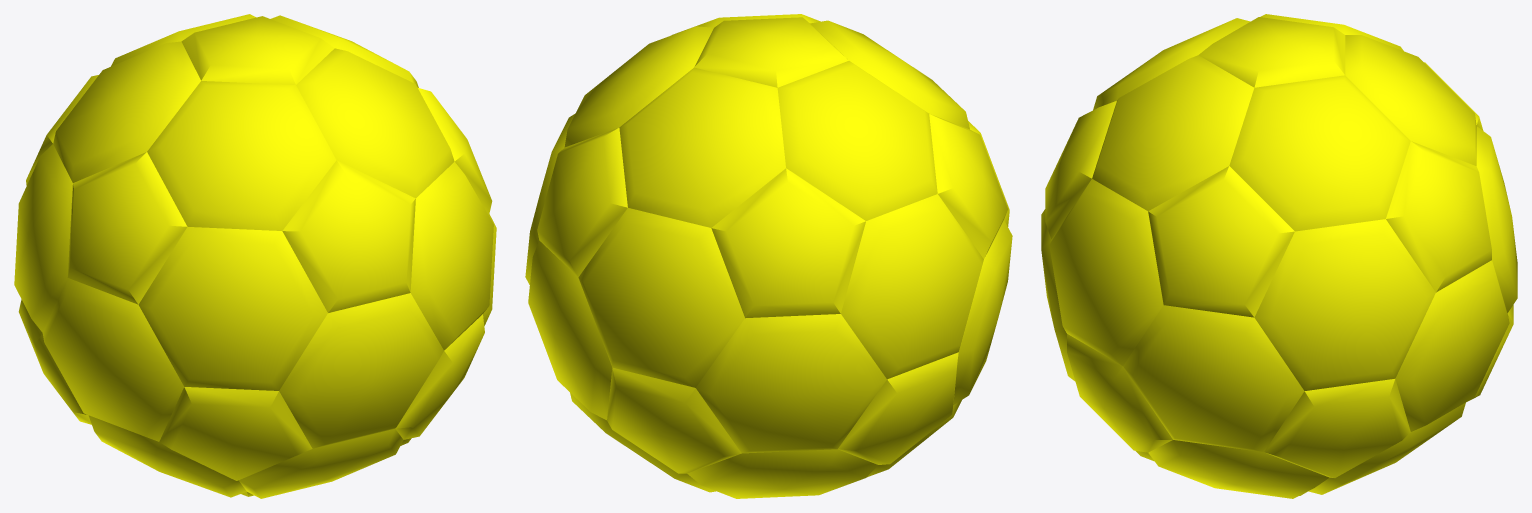
Rendered from kaykit-football.glb.
3 views of the same model, side by side, from view 1: azimuth 30°, elevation 25°; view 2: azimuth 150°, elevation 25°; view 3: azimuth 270°, elevation 25° (orthographic).
Visible parts, largest first — view 1: football; view 2: football; view 3: football.
Part boxes in pixels (left/top/right/bottom): football: left=14, top=14, right=496, bottom=498; football: left=525, top=14, right=1012, bottom=498; football: left=1041, top=14, right=1517, bottom=498.
Bounding box in the file's own units: 0.569 × 0.5768 × 0.5665.
